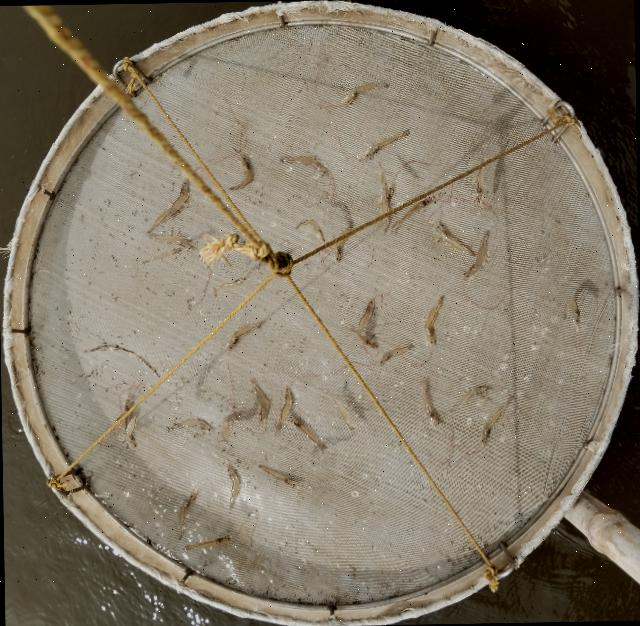shrimp: (147, 179, 188, 232), (392, 194, 440, 230), (287, 415, 328, 453), (363, 129, 410, 161), (481, 401, 510, 447), (463, 229, 489, 280), (436, 223, 475, 254), (449, 387, 491, 413), (423, 295, 444, 346), (346, 81, 389, 105), (420, 381, 441, 428), (280, 156, 328, 176), (228, 323, 261, 351), (229, 153, 253, 190), (257, 464, 294, 487), (250, 378, 268, 424), (179, 493, 196, 540), (295, 219, 325, 244), (380, 343, 414, 365), (185, 534, 232, 549), (351, 324, 378, 349), (146, 234, 191, 249), (381, 185, 395, 232), (278, 385, 292, 431), (213, 275, 246, 294), (476, 154, 488, 206), (169, 419, 214, 432), (335, 224, 350, 263), (358, 299, 374, 332), (227, 466, 239, 508), (126, 411, 139, 448), (125, 393, 135, 428)
